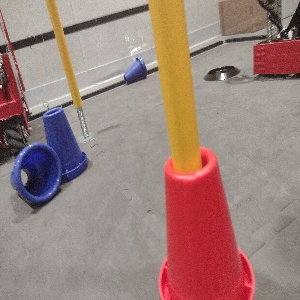Blue_1: (35, 102, 89, 186), (7, 146, 63, 208), (119, 55, 148, 82)
Red_1: (156, 144, 256, 299)
